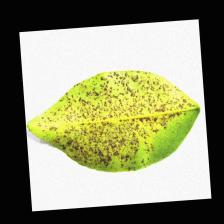canker: (62, 77, 165, 159)
